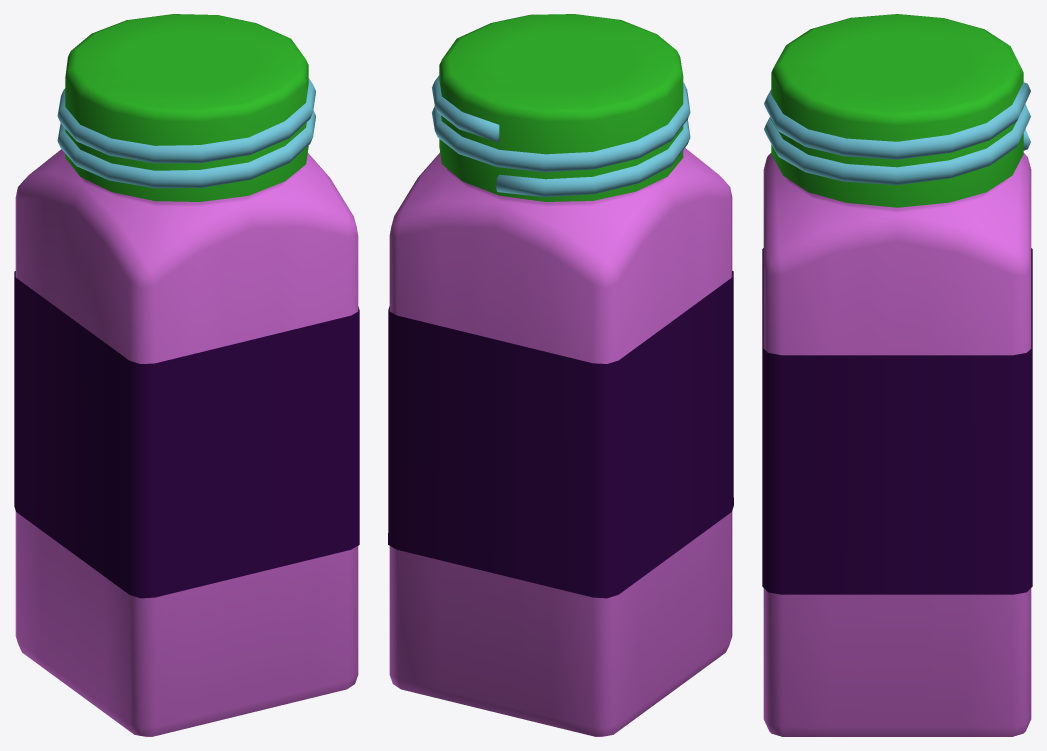
The model's file is Glass Bottle 01.fbx.
3 views of the same model, side by side, from view 1: azimuth 30°, elevation 25°; view 2: azimuth 150°, elevation 25°; view 3: azimuth 270°, elevation 25° (orthographic). The views are drawn at different scales.
Visible parts, largest first — view 1: Glass_Bottle_01 New; view 2: Glass_Bottle_01 New; view 3: Glass_Bottle_01 New.
Part boxes in pixels (x1,y1,x2,y2): Glass_Bottle_01 New: (14, 14, 359, 736); Glass_Bottle_01 New: (388, 14, 733, 736); Glass_Bottle_01 New: (762, 14, 1032, 736).
Bounding box in the file's own units: 11.66 × 11.66 × 29.74.
